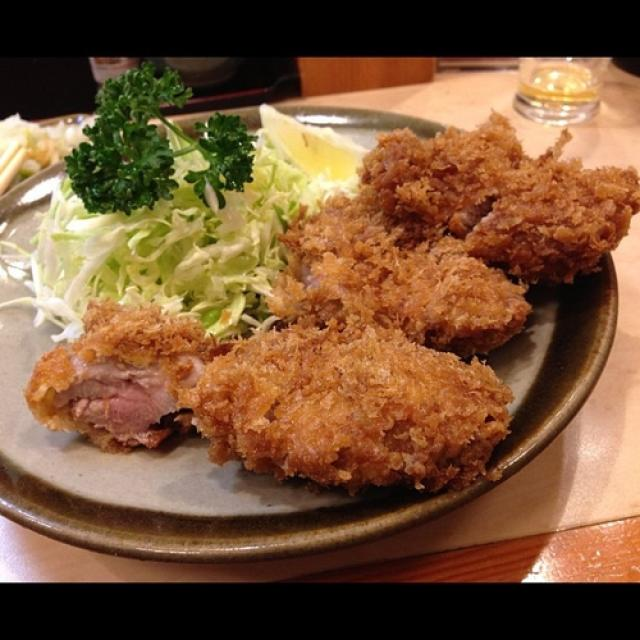牛肉菜式: (36, 124, 635, 498)
